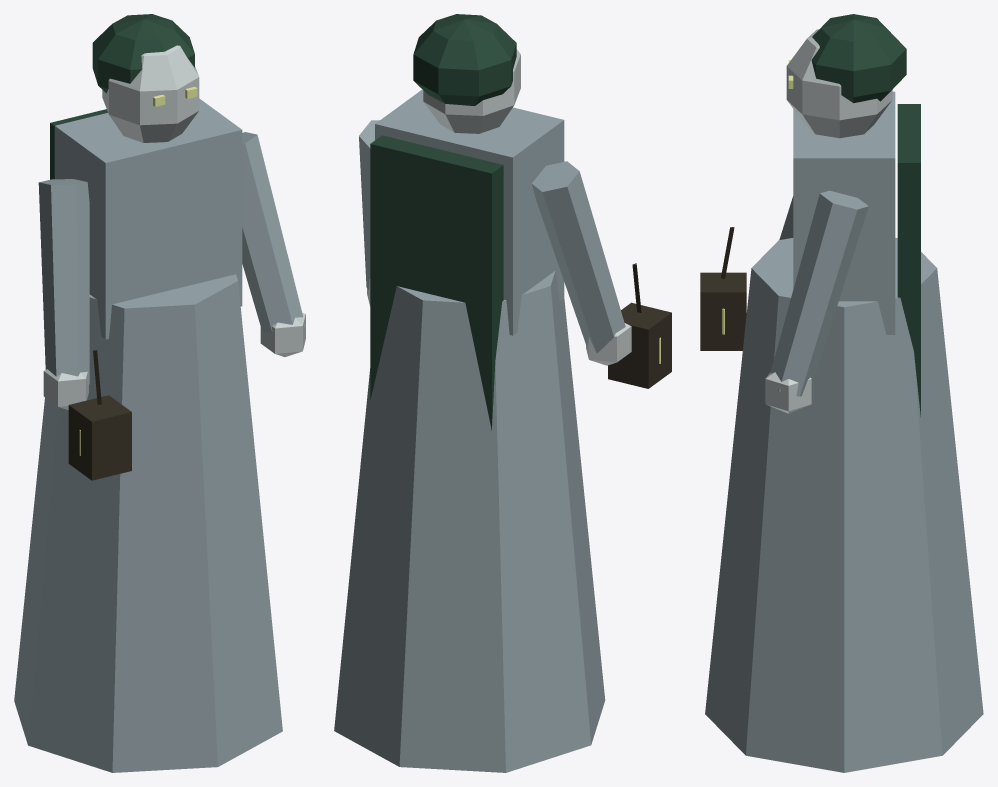
File: wattjungfrau.glb
3 views of the same model, side by side, from view 1: azimuth 30°, elevation 25°; view 2: azimuth 150°, elevation 25°; view 3: azimuth 270°, elevation 25° (orthographic).
Size of the model in its own units: 0.6443 by 1.65 by 0.61.
1 material, 1 textured.
